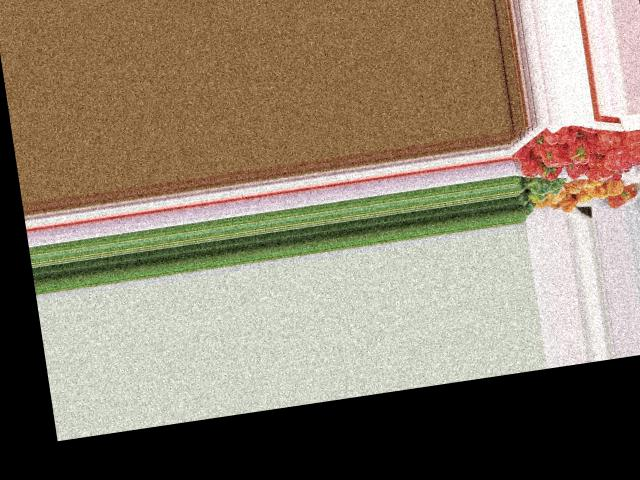bell_pepper: (541, 122, 580, 147)
